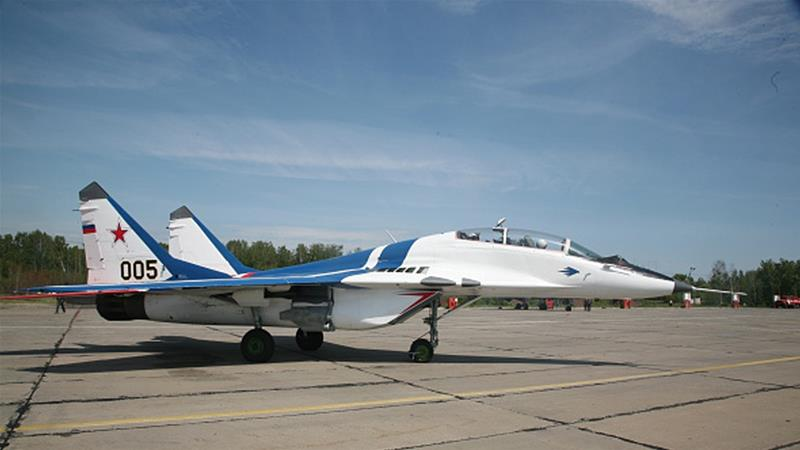Mig-29: (32, 160, 734, 402)
